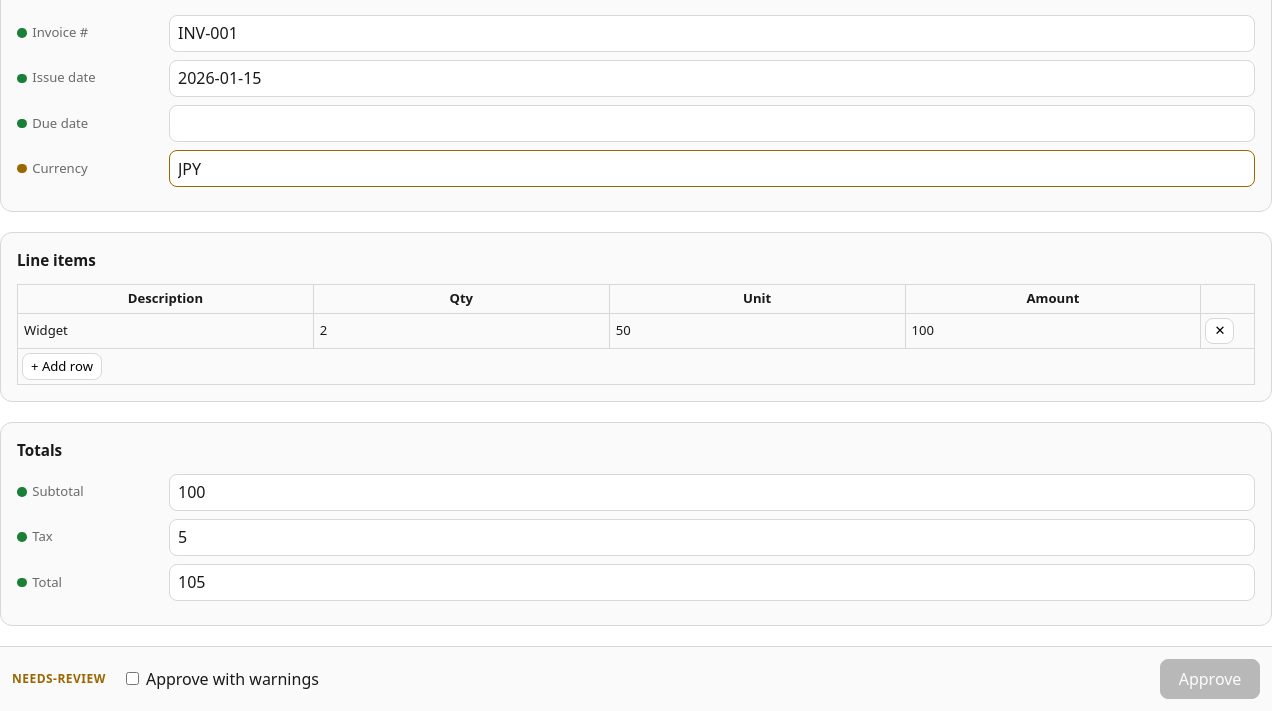
Scenario: ReviewForm › requires acknowledging warnings before approval
This screenshot has width=1280, height=711.
(page scrolled)
Expected: the button "Approve" is disabled, [1160,659,1260,700]
Click the checkbox labelled "Approve with warnings": (132, 679) [126,672,139,685]
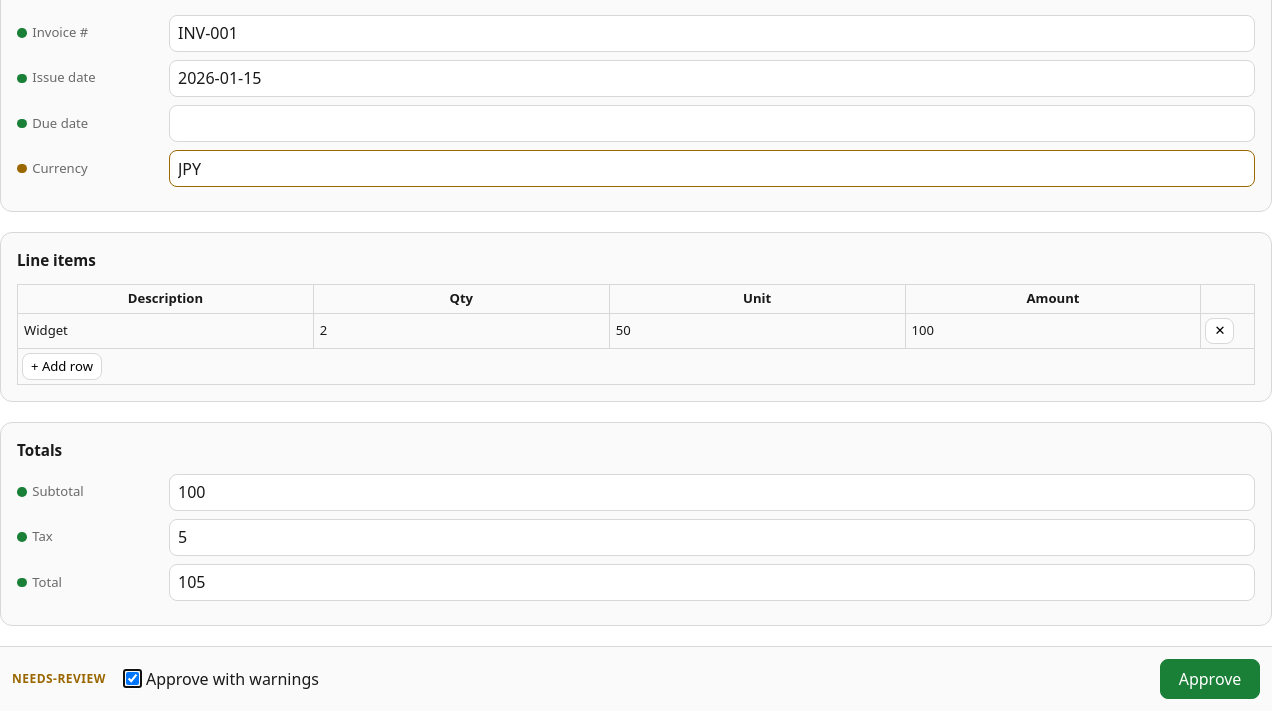
Now the button "Approve" is enabled, box [1160,659,1260,700]
